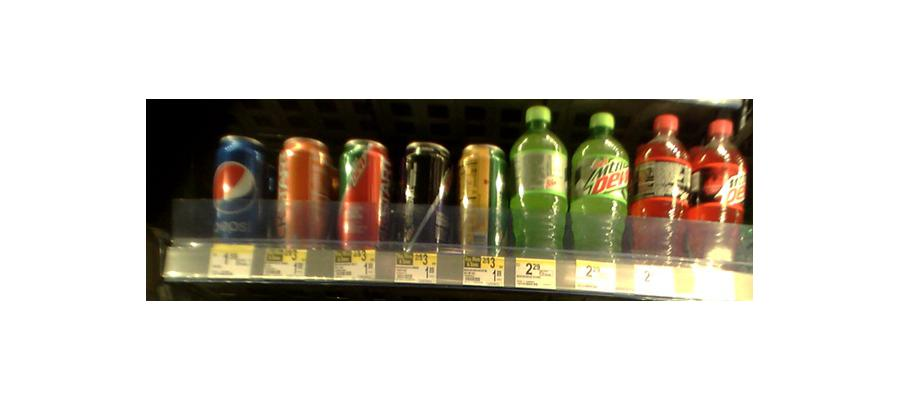bottle: (509, 108, 570, 260), (630, 111, 690, 260), (570, 110, 630, 256), (691, 112, 743, 267), (397, 139, 453, 251), (456, 139, 508, 256), (211, 131, 265, 243), (276, 138, 330, 247), (336, 139, 388, 248)
